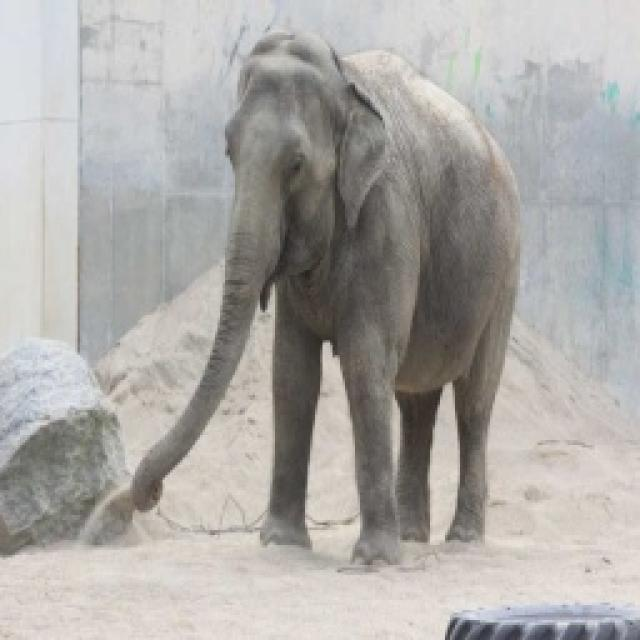not_pig: (120, 25, 522, 567)
